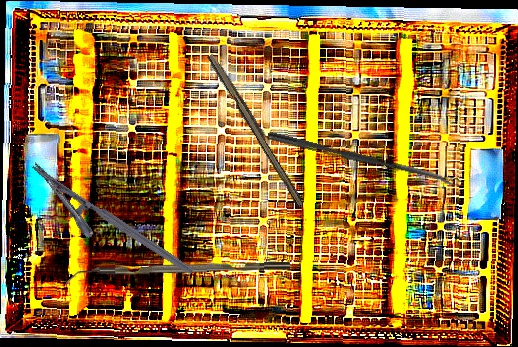Chopper: (65, 262, 291, 284)
Needle Holder: (16, 161, 195, 298)
Scalpel Handle: (204, 51, 309, 208)
Surgical Spoon: (266, 131, 460, 188)
